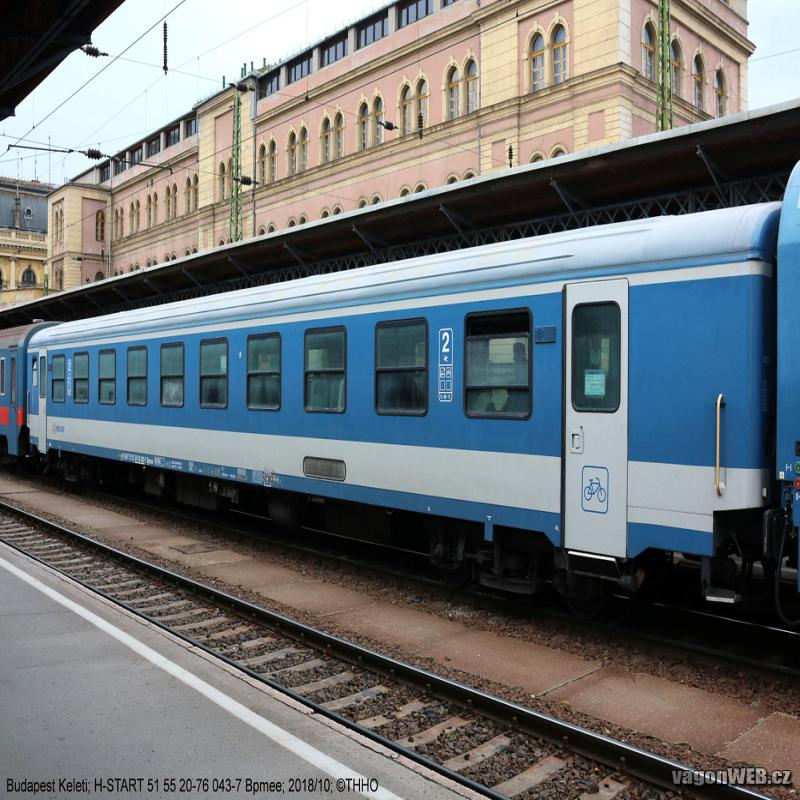train: (26, 200, 782, 647)
